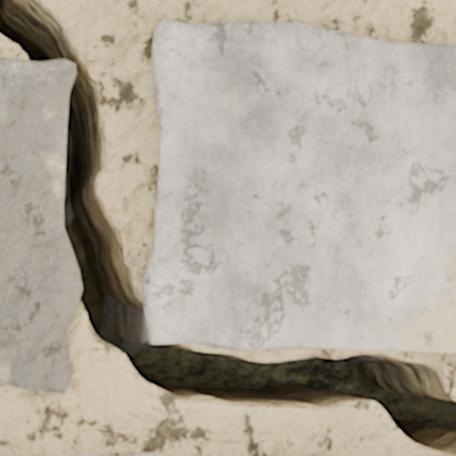brick: (143, 21, 455, 351), (0, 58, 81, 393), (129, 452, 164, 455), (74, 453, 98, 455), (313, 454, 327, 455)
crack: (0, 0, 455, 455)
